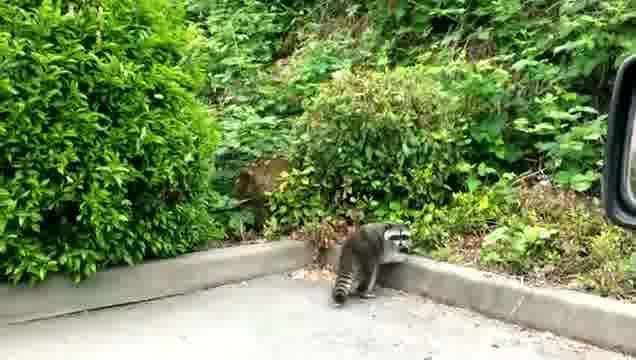raccoon: (333, 220, 413, 306)
